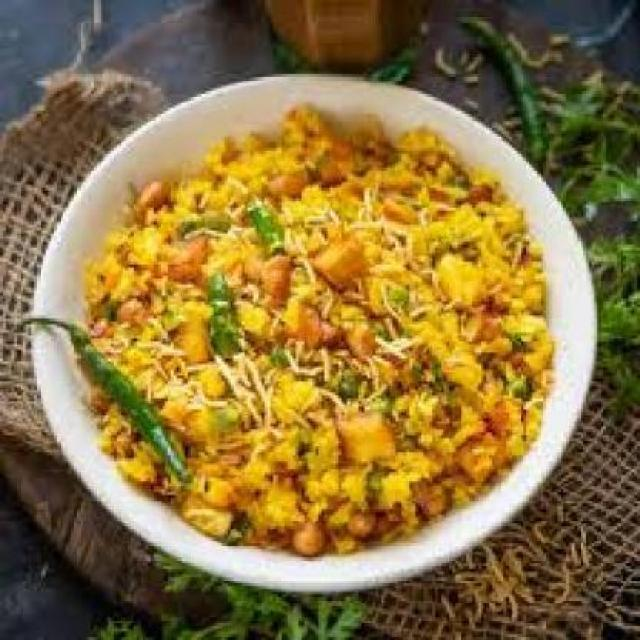poha: (81, 108, 552, 560)
